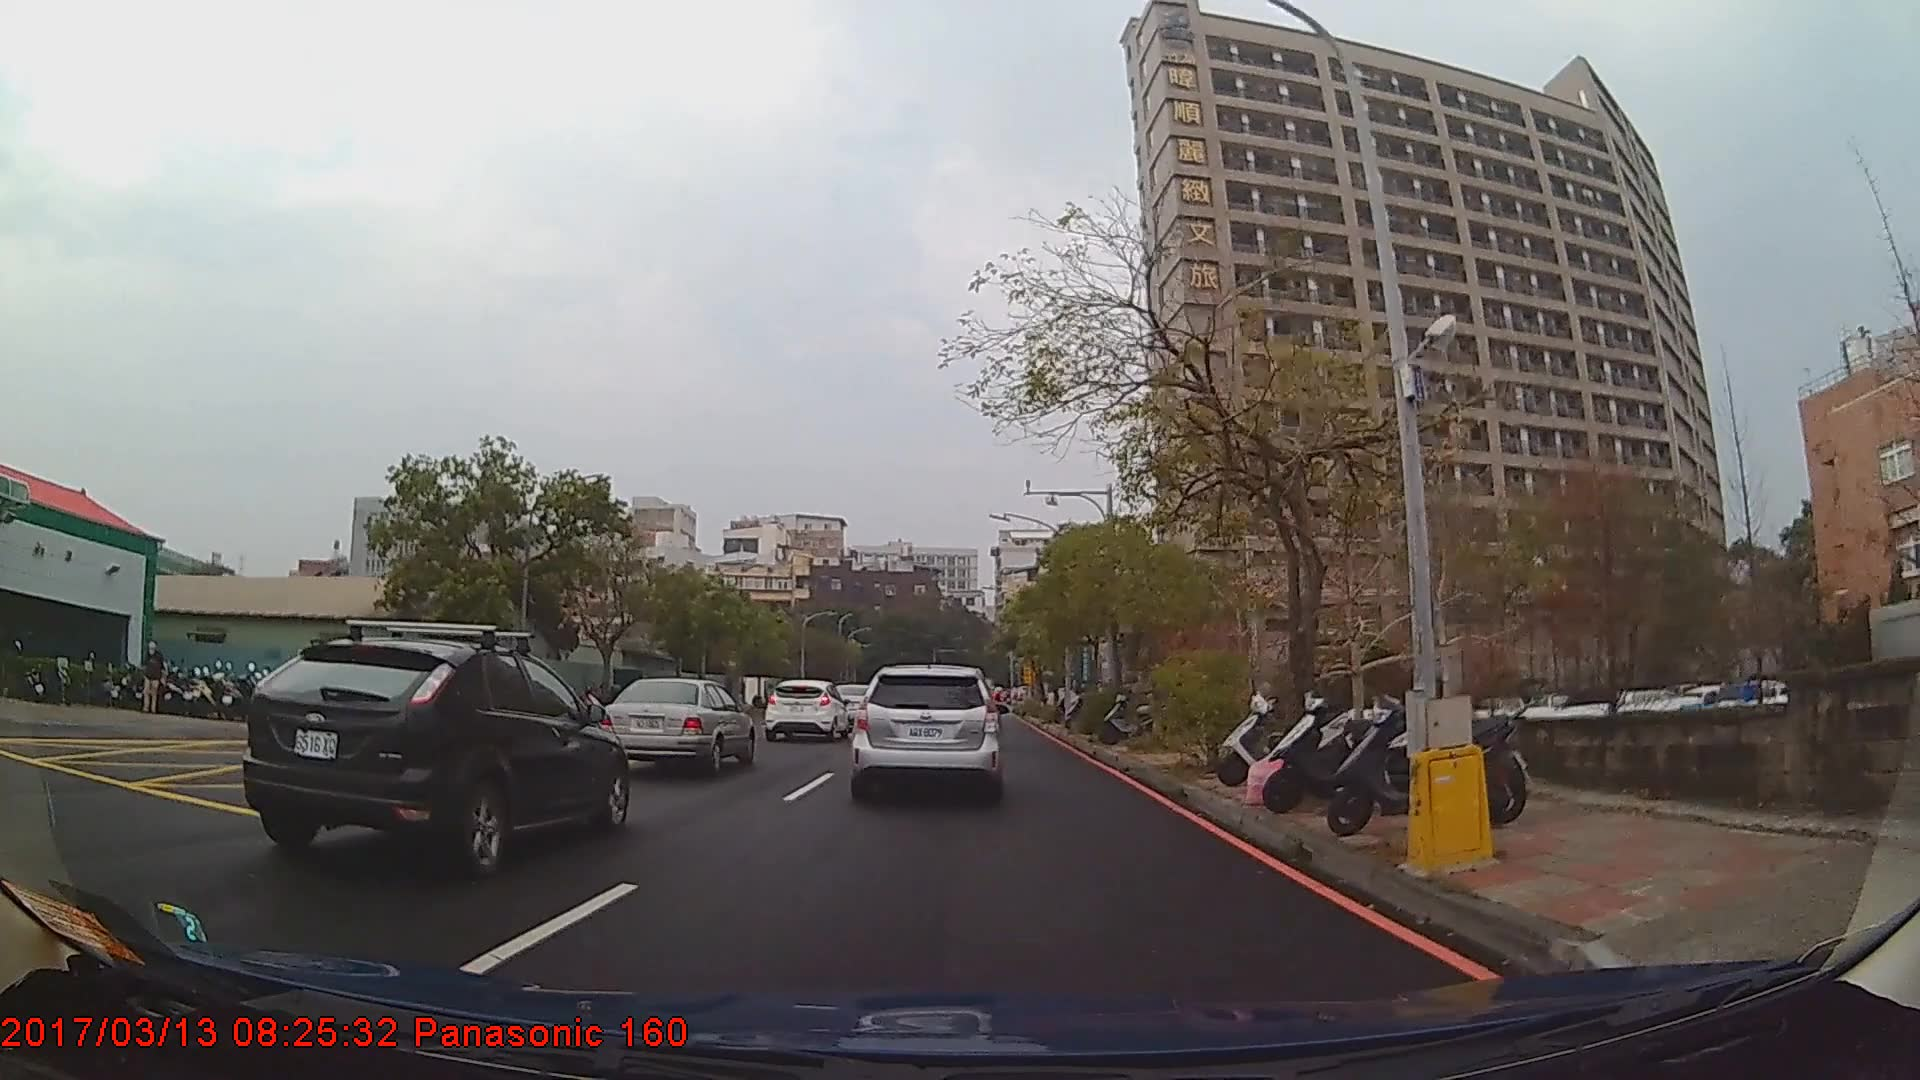pedestrian: (143, 641, 167, 715)
vehicle: (240, 633, 627, 868), (848, 659, 999, 800), (597, 674, 754, 771), (761, 676, 850, 739)
